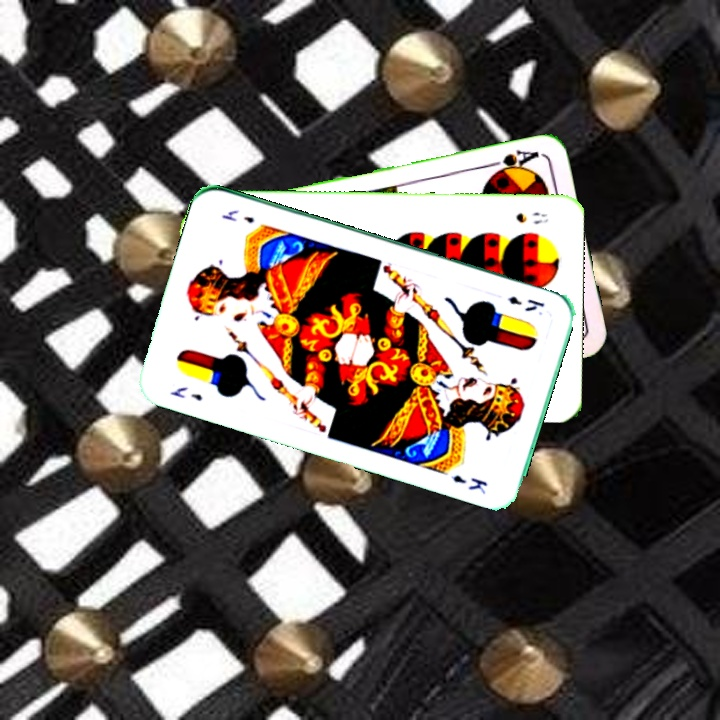EK: (504, 292, 547, 314), (166, 382, 205, 404)
S8: (512, 208, 551, 227)
SA: (486, 145, 545, 179)
